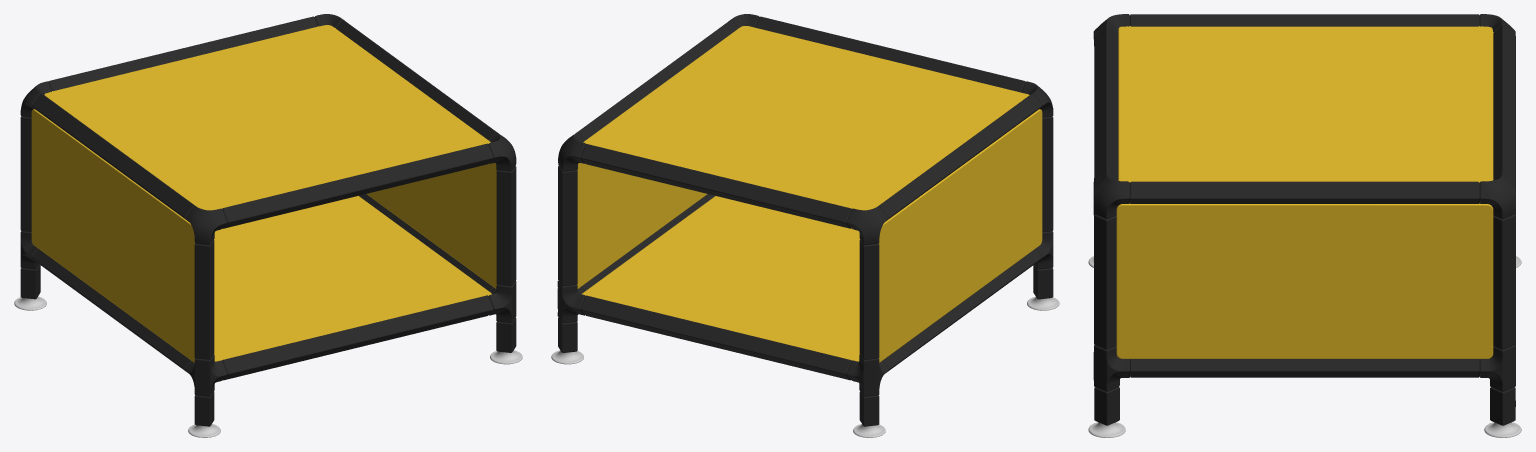
3 views of the same model, side by side, from view 1: azimuth 30°, elevation 25°; view 2: azimuth 150°, elevation 25°; view 3: azimuth 270°, elevation 25° (orthographic). The views are drawn at different scales.
Parts seen in each view (by area): view 1: 374x374x154; view 2: 374x374x154; view 3: 374x374x154.
Boxes of the visible parts, x1=… form: 374x374x154: x1=14, y1=14, x2=522, y2=437; 374x374x154: x1=551, y1=14, x2=1059, y2=437; 374x374x154: x1=1088, y1=14, x2=1521, y2=437.
Bounding box in the file's own units: 0.4639 × 0.2933 × 0.4632.
